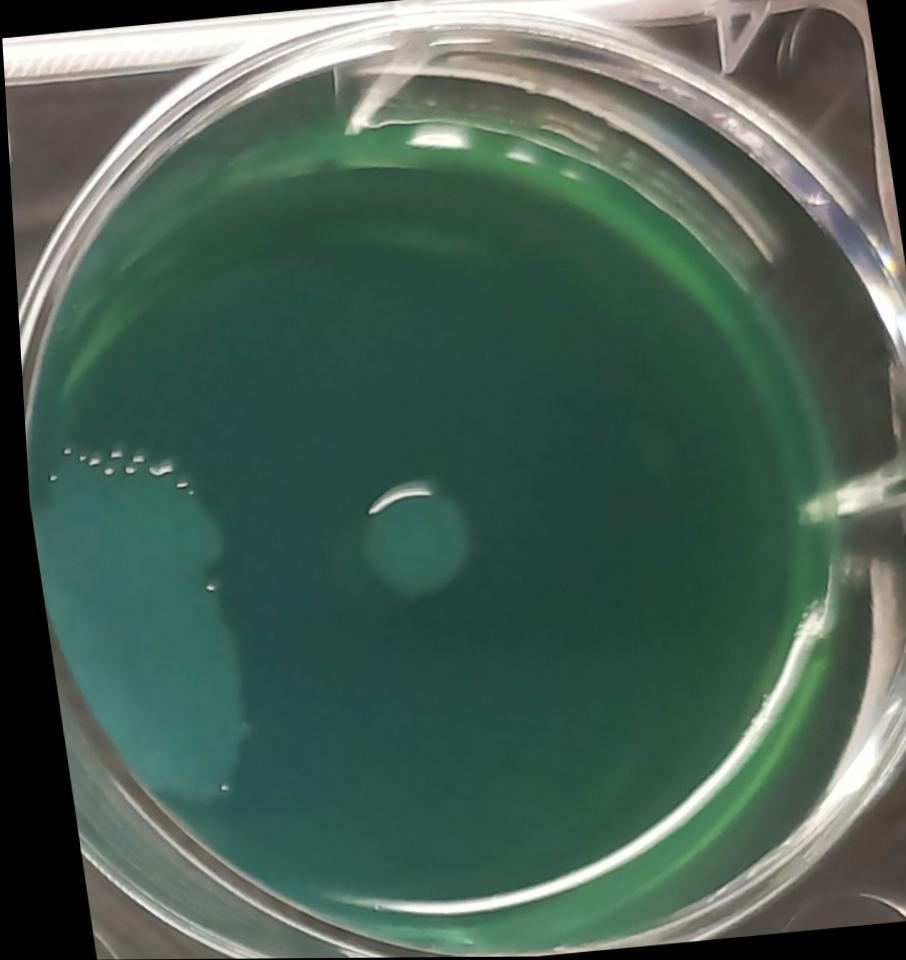vproteolyticus: (20, 433, 285, 828), (335, 455, 496, 609)
